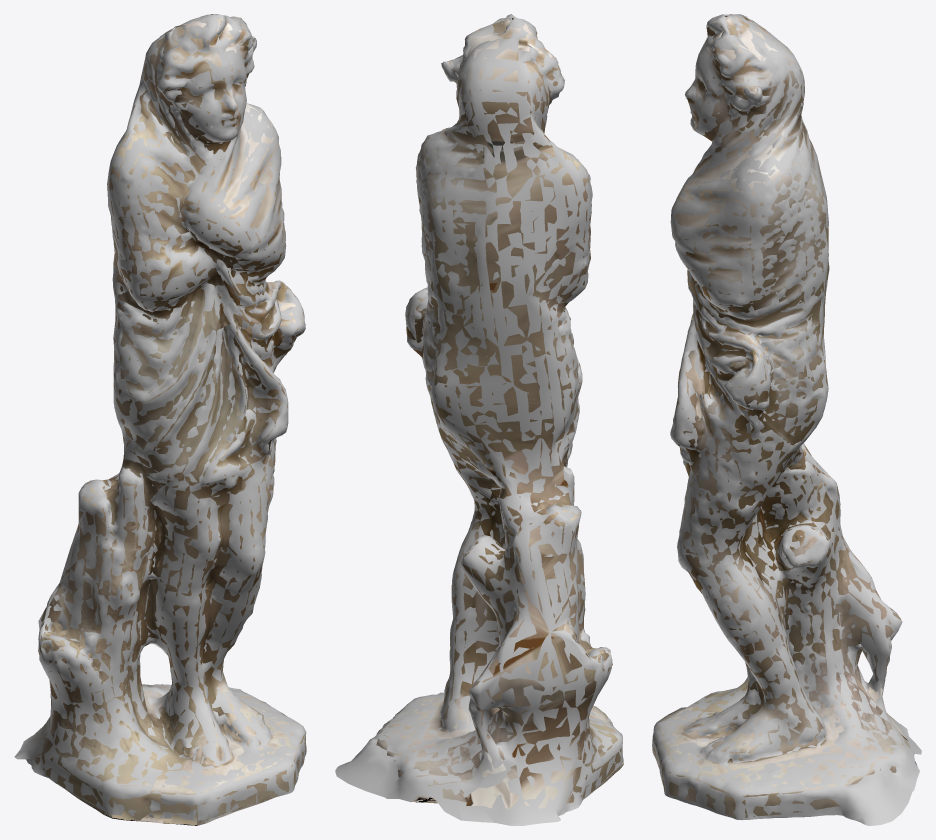
Rendered from FoleyWinter_Final.obj.
3 renders of one model, left to right at view 1: azimuth 30°, elevation 25°; view 2: azimuth 150°, elevation 25°; view 3: azimuth 270°, elevation 25°, orthographic. The views are drawn at different scales.
Parts seen in each view (by area): view 1: FoleyWinter_hp_Mesh_0, FoleyWinter_lp_FoleyWinter_Mesh; view 2: FoleyWinter_hp_Mesh_0, FoleyWinter_lp_FoleyWinter_Mesh; view 3: FoleyWinter_hp_Mesh_0, FoleyWinter_lp_FoleyWinter_Mesh.
Part boxes in pixels (<box>): FoleyWinter_hp_Mesh_0: <box>14,14,306,820</box>; FoleyWinter_lp_FoleyWinter_Mesh: <box>29,14,306,825</box>; FoleyWinter_hp_Mesh_0: <box>335,14,623,825</box>; FoleyWinter_lp_FoleyWinter_Mesh: <box>376,18,623,809</box>; FoleyWinter_hp_Mesh_0: <box>652,14,921,825</box>; FoleyWinter_lp_FoleyWinter_Mesh: <box>653,14,916,817</box>.
Size of the model in its own units: 1.08 by 3.23 by 1.04.
